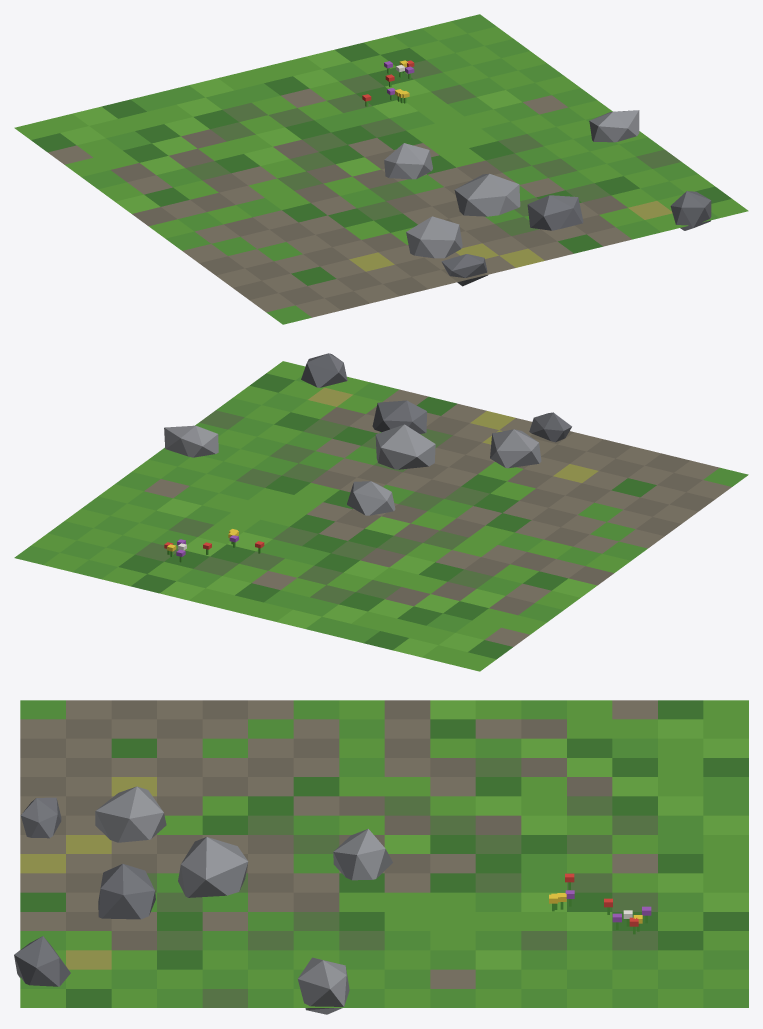
File: chunk_7_16.glb
The picture shows the model from 3 angles, top to bottom: view 1: azimuth 30°, elevation 25°; view 2: azimuth 150°, elevation 25°; view 3: azimuth 270°, elevation 25°; orthographic projection. The views are drawn at different scales.
Visible parts, largest first — view 1: chunk_7_16; view 2: chunk_7_16; view 3: chunk_7_16.
Boxes of the visible parts, x1=… form: chunk_7_16: x1=14, y1=14, x2=748, y2=324; chunk_7_16: x1=14, y1=353, x2=748, y2=671; chunk_7_16: x1=14, y1=700, x2=748, y2=1014.
Bounding box in the file's own units: 16.16 × 1.68 × 16.14.
